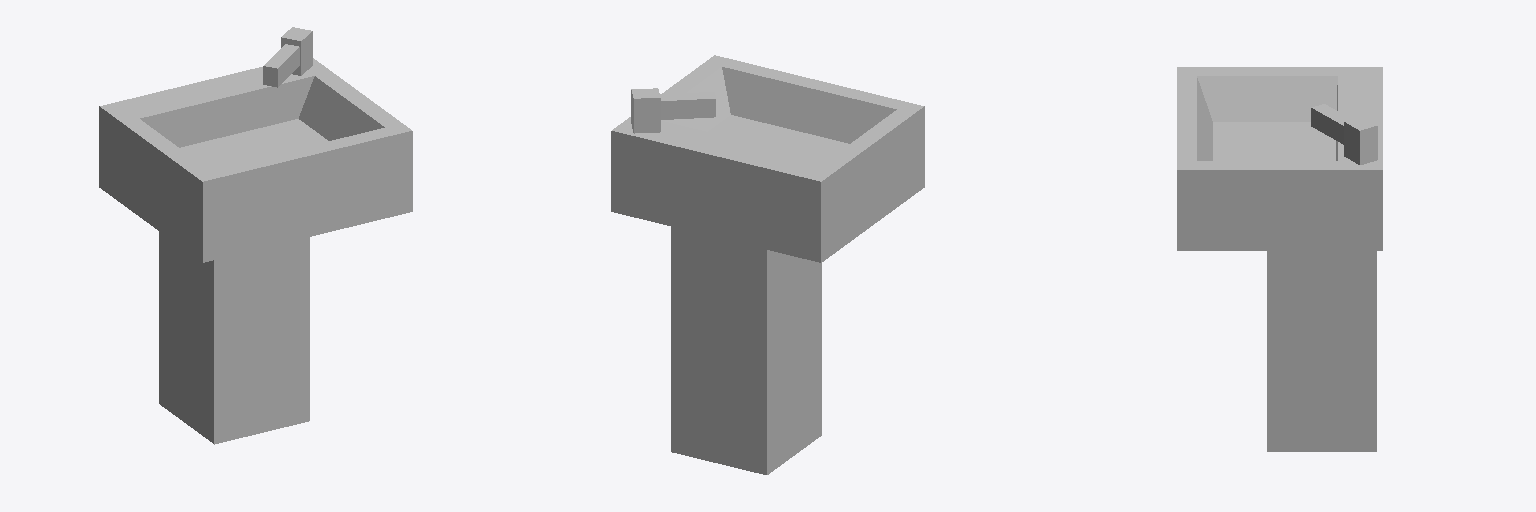
The model's file is sink.obj.
The picture shows the model from 3 angles: view 1: azimuth 30°, elevation 25°; view 2: azimuth 150°, elevation 25°; view 3: azimuth 270°, elevation 25°; orthographic projection.
Visible parts, largest first — view 1: Box002; view 2: Box002; view 3: Box002.
Boxes of the visible parts, x1=… form: Box002: x1=99, y1=27, x2=412, y2=444; Box002: x1=611, y1=55, x2=924, y2=474; Box002: x1=1177, y1=67, x2=1382, y2=451.
Bounding box in the file's own units: 48.53 × 76.12 × 41.32.